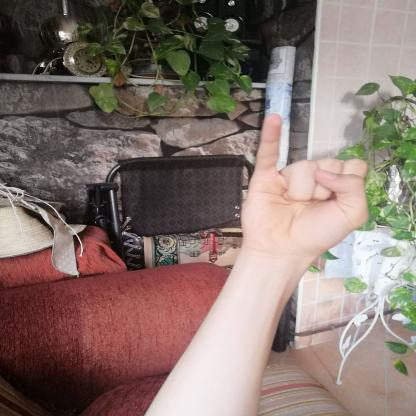MEEM: (224, 103, 386, 266)
